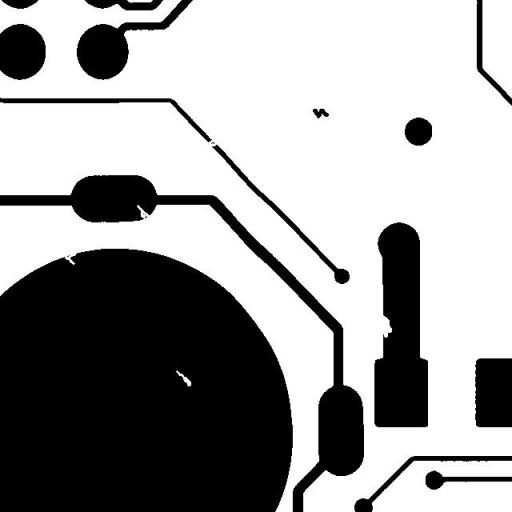copper: (305, 100, 336, 126)
mousebite: (371, 306, 399, 345), (129, 197, 159, 226), (56, 245, 83, 272)
open: (200, 132, 224, 154)
pin-hole: (168, 362, 198, 394)
